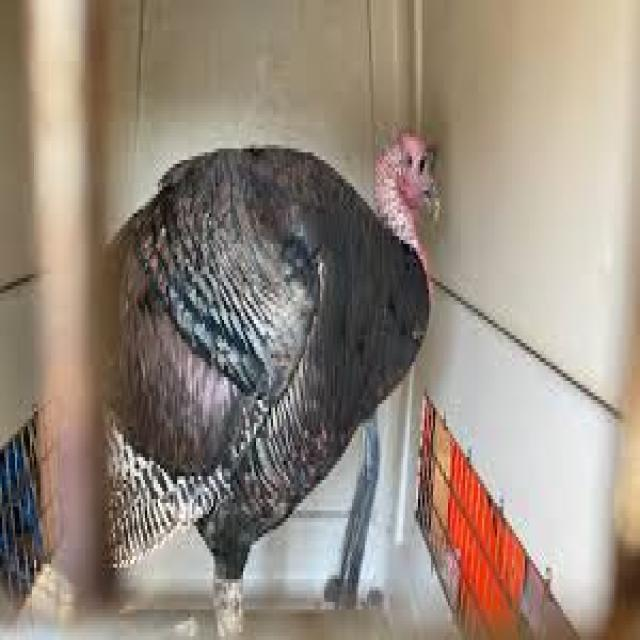Turkey: (99, 101, 449, 632)
